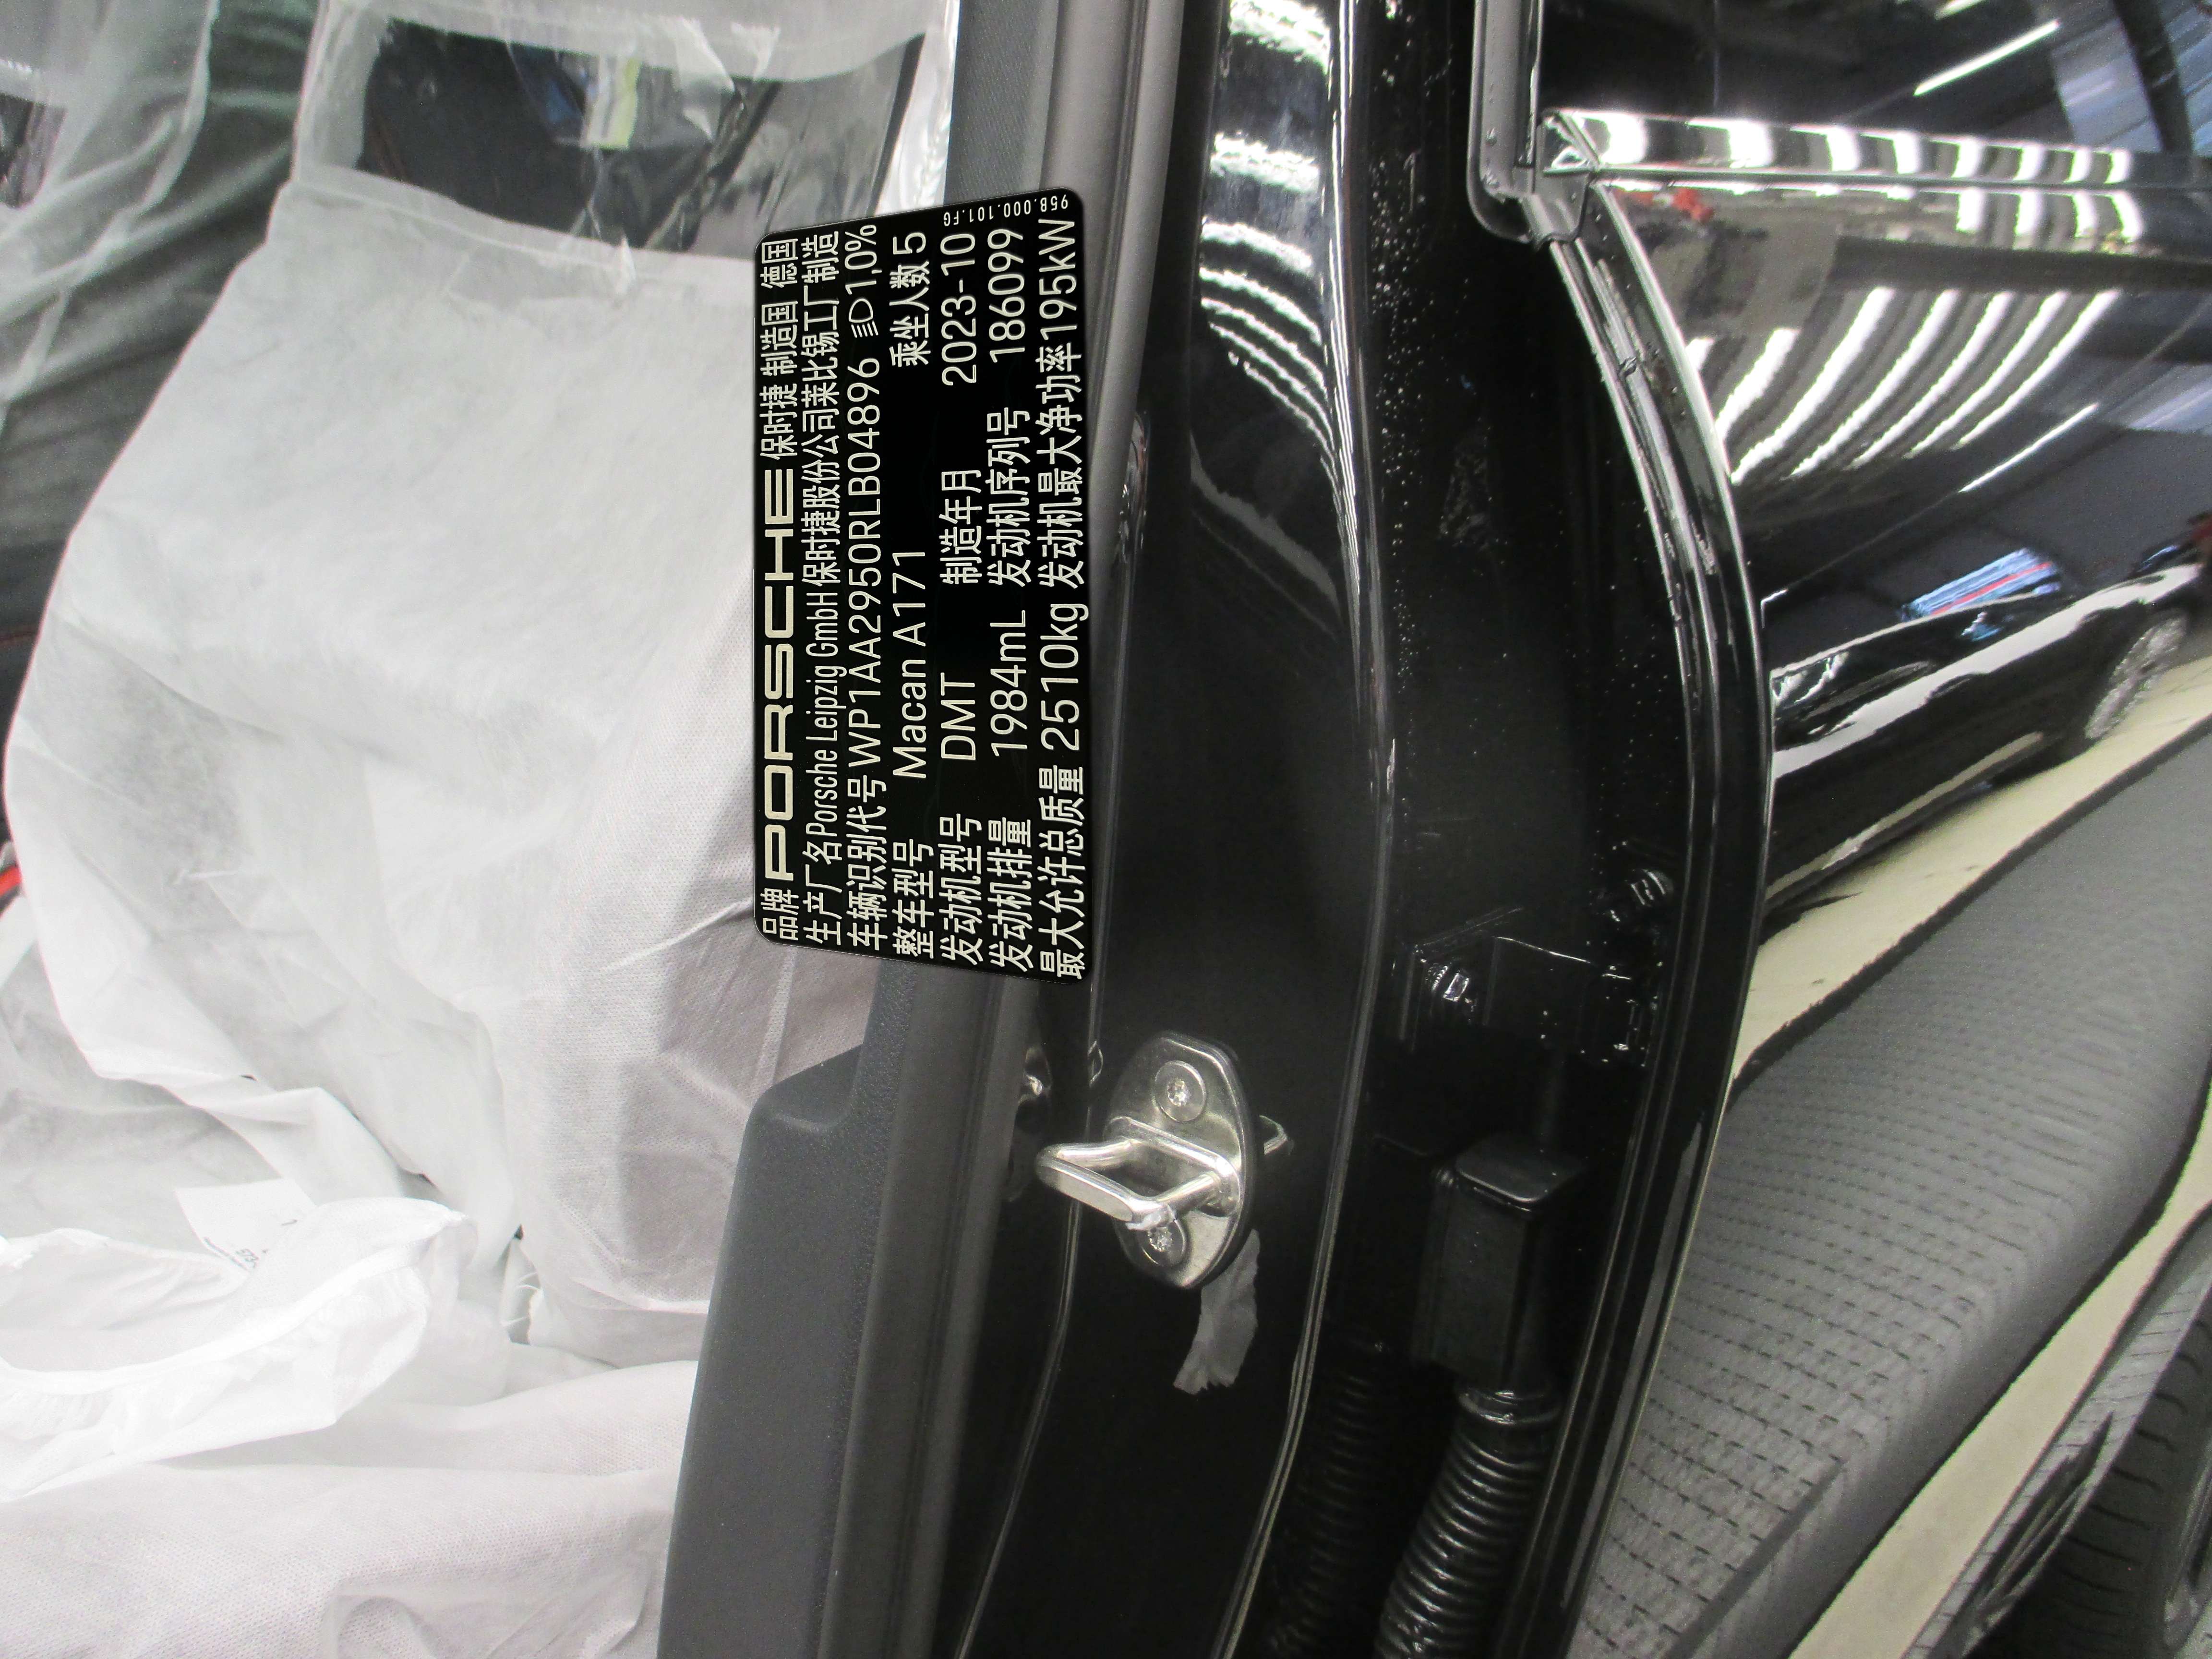Typlabel-China: (752, 186, 1092, 983)
